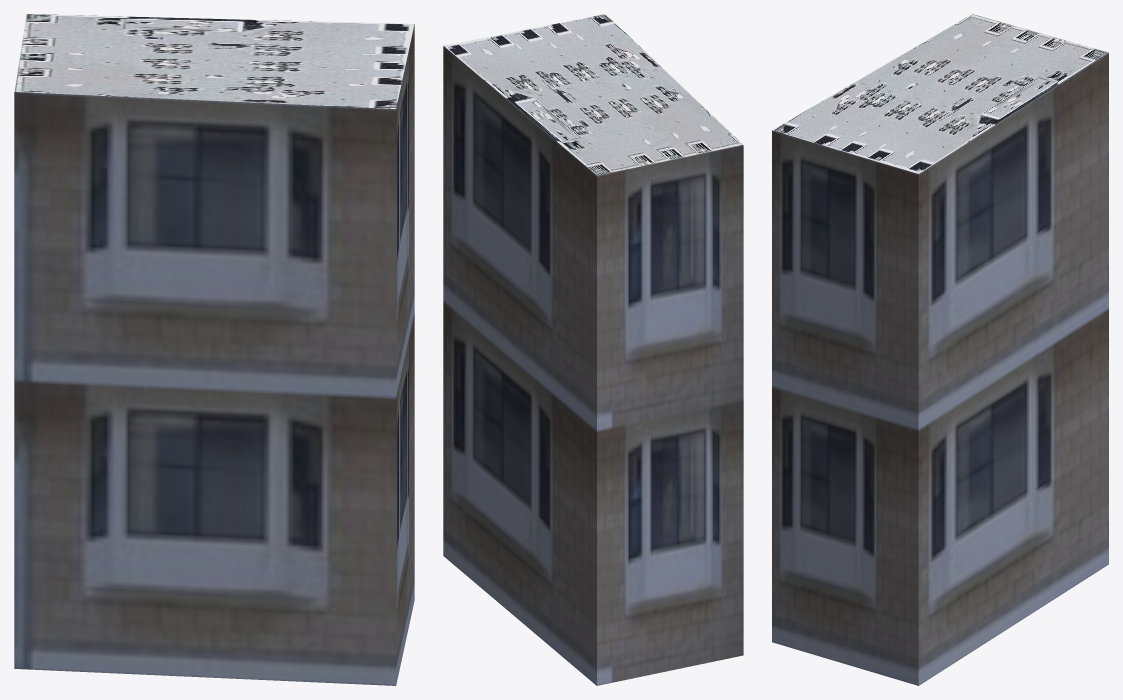
Rendered from ResTex__4856.fbx.
3 views of the same model, side by side, from view 1: azimuth 30°, elevation 25°; view 2: azimuth 150°, elevation 25°; view 3: azimuth 270°, elevation 25° (orthographic). The views are drawn at different scales.
Visible parts, largest first — view 1: CityEngineMaterial_3_m, CityEngineMaterial_m; view 2: CityEngineMaterial_3_m, CityEngineMaterial_m; view 3: CityEngineMaterial_3_m, CityEngineMaterial_m.
Boxes of the visible parts, x1,y1,x2,y2 form: CityEngineMaterial_3_m: (14,24,414,685); CityEngineMaterial_m: (14,14,414,108); CityEngineMaterial_3_m: (443,46,743,685); CityEngineMaterial_m: (444,14,742,175); CityEngineMaterial_3_m: (772,52,1108,685); CityEngineMaterial_m: (772,14,1108,173).
Bounding box in the file's own units: 4.02 × 6 × 3.58.
2 materials, 2 textured.
